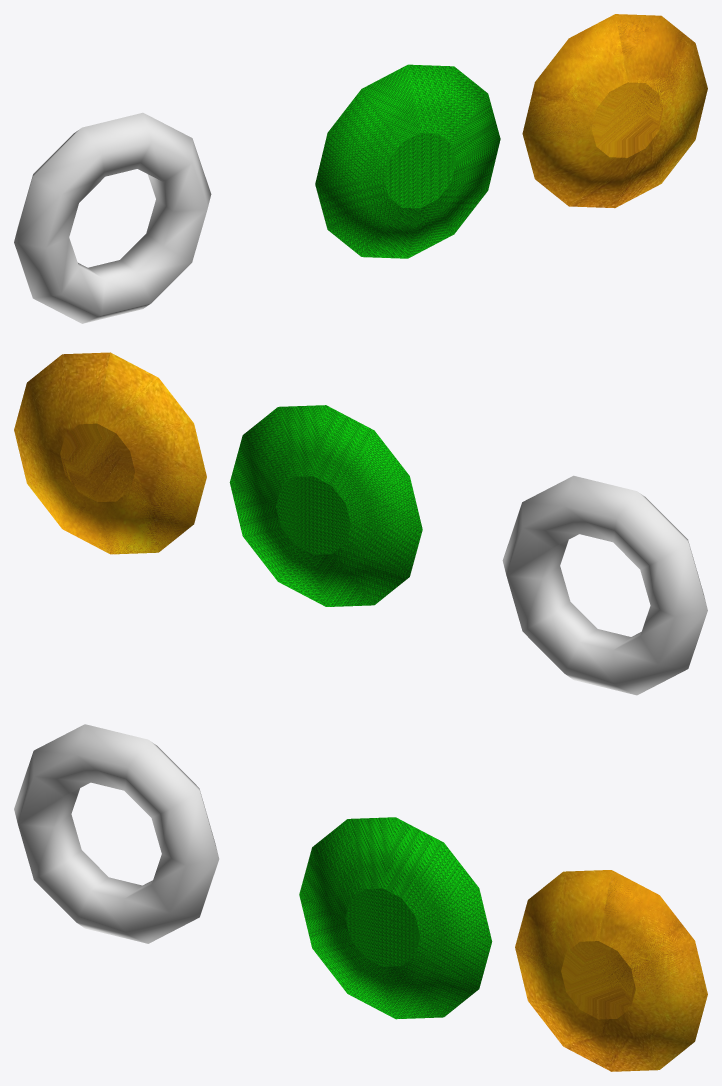
Rendered from accessories.FBX.
3 renders of one model, top to bottom at view 1: azimuth 30°, elevation 25°; view 2: azimuth 150°, elevation 25°; view 3: azimuth 330°, elevation 25°, orthographic. The views are drawn at different scales.
Parts seen in each view (by area): view 1: Object002, Torus001, Cylinder001, Object001; view 2: Object002, Torus001, Cylinder001, Object001; view 3: Object002, Torus001, Cylinder001, Object001.
Boxes of the visible parts, x1,y1,x2,y2 form: Object002: (315, 64, 500, 258); Torus001: (14, 112, 211, 323); Cylinder001: (522, 14, 707, 208); Object001: (523, 14, 707, 153); Object002: (229, 405, 422, 606); Torus001: (502, 475, 707, 695); Cylinder001: (14, 352, 206, 554); Object001: (16, 373, 206, 554); Object002: (299, 817, 492, 1019); Torus001: (14, 724, 219, 943); Cylinder001: (515, 870, 707, 1071); Object001: (515, 870, 707, 1035).
Bounding box in the file's own units: 528 × 147 × 53.79.
2 materials, 2 textured.
